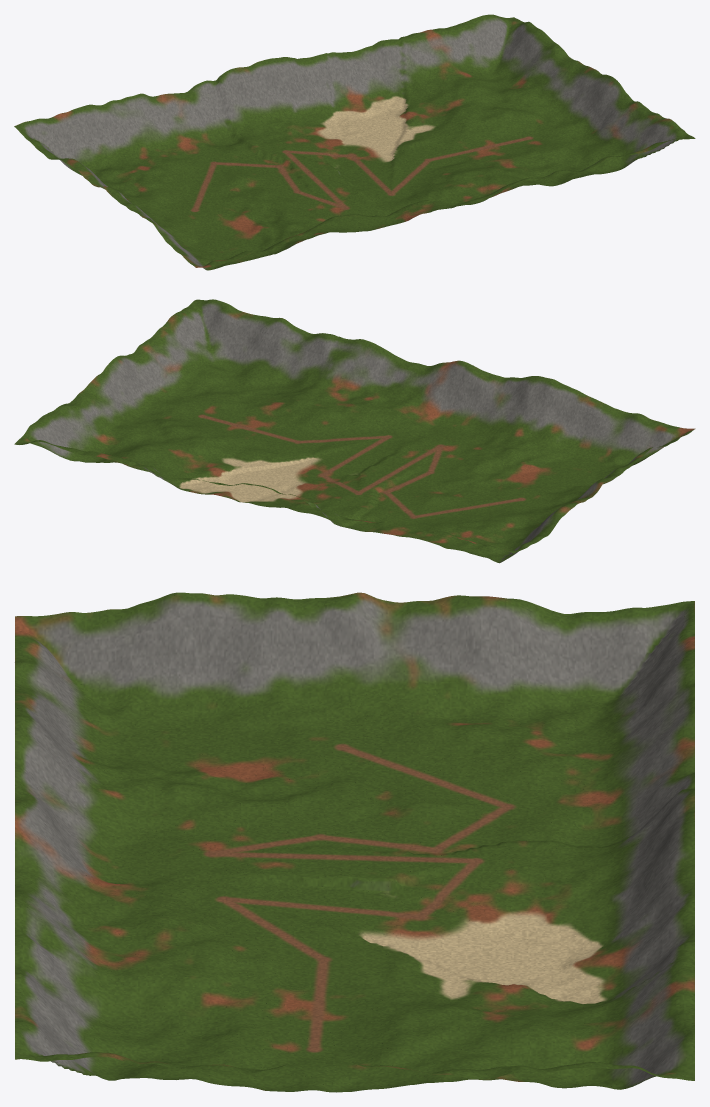
The model's file is SM_Art_Terrain_L_BrokenCompact.gltf.
The picture shows the model from 3 angles, top to bottom: view 1: azimuth 30°, elevation 25°; view 2: azimuth 150°, elevation 25°; view 3: azimuth 270°, elevation 25°; orthographic projection. The views are drawn at different scales.
Parts seen in each view (by area): view 1: SM_Art_Terrain_L_BrokenCompact; view 2: SM_Art_Terrain_L_BrokenCompact; view 3: SM_Art_Terrain_L_BrokenCompact.
Boxes of the visible parts, <box> form: SM_Art_Terrain_L_BrokenCompact: <box>14,14,695,270</box>; SM_Art_Terrain_L_BrokenCompact: <box>14,299,695,563</box>; SM_Art_Terrain_L_BrokenCompact: <box>15,592,694,1092</box>.
Bounding box in the file's own units: 347 × 32.51 × 219.
Materials: 2 (2 with a texture image).
